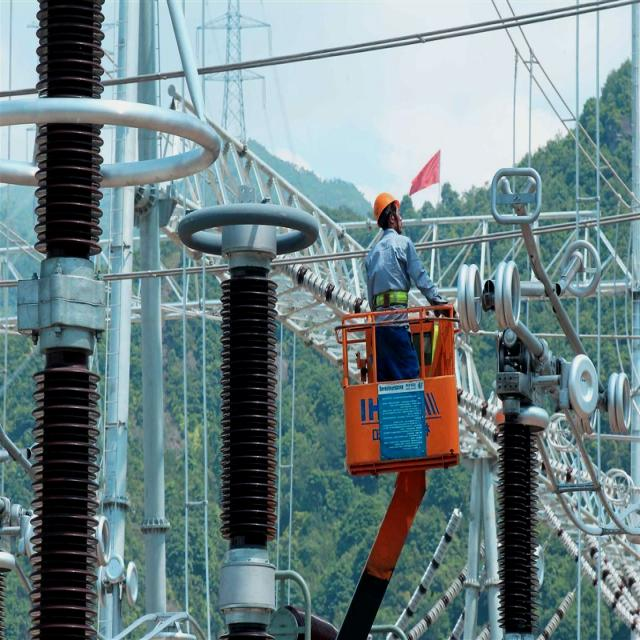head_helmet: (372, 192, 399, 225)
person: (369, 195, 420, 382)
